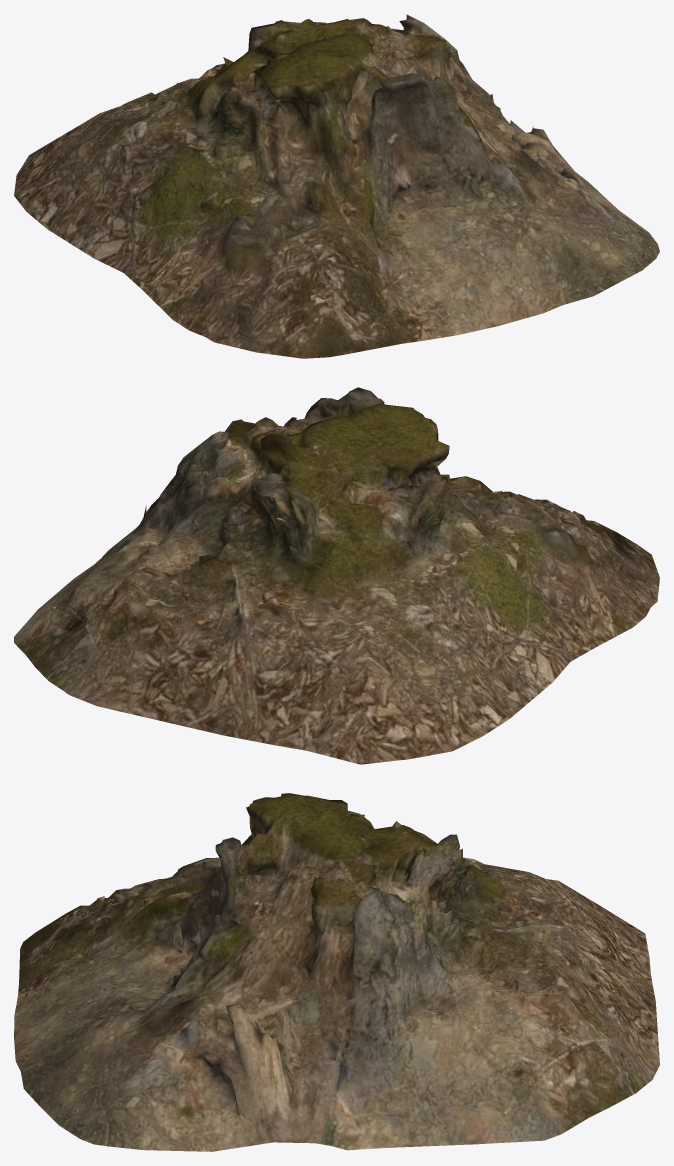
The model's file is tree_stump_01.glb.
The picture shows the model from 3 angles, top to bottom: view 1: azimuth 30°, elevation 25°; view 2: azimuth 150°, elevation 25°; view 3: azimuth 270°, elevation 25°; orthographic projection. The views are drawn at different scales.
Parts seen in each view (by area): view 1: tree_stump_01; view 2: tree_stump_01; view 3: tree_stump_01.
Part boxes in pixels (x1,y1,x2,y2): tree_stump_01: [14, 14, 659, 358]; tree_stump_01: [14, 387, 659, 764]; tree_stump_01: [14, 793, 659, 1151].
Size of the model in its own units: 1.43 by 0.571 by 1.59.
1 material, 1 textured.
